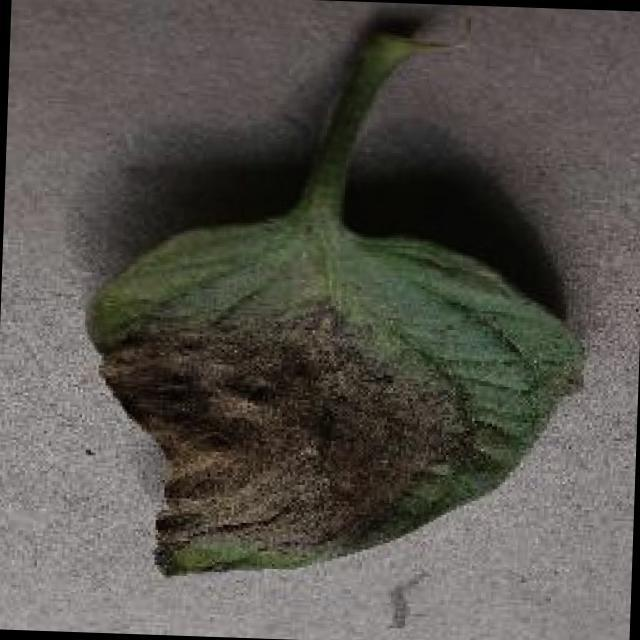Tomato late blight leaf: (76, 202, 595, 596)
